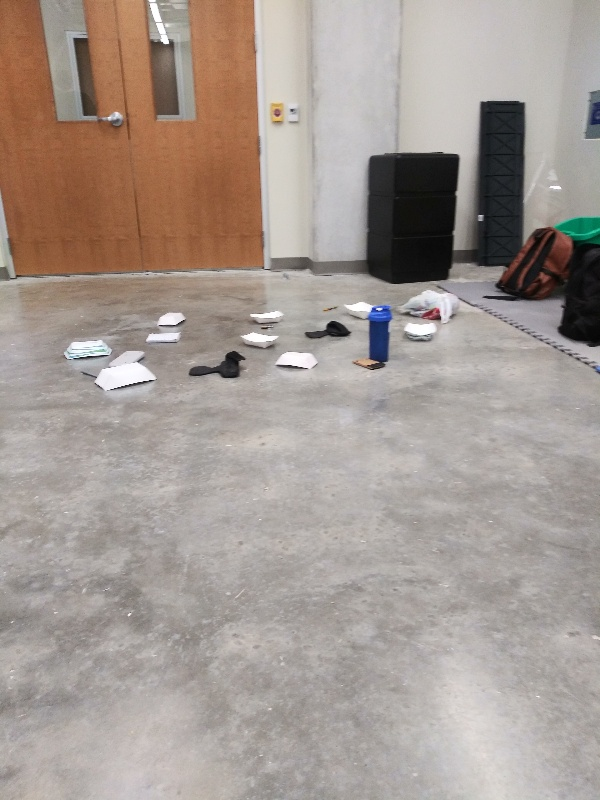plate: (91, 360, 157, 397), (61, 335, 114, 363), (400, 318, 442, 346), (275, 348, 322, 371), (248, 306, 292, 325), (238, 328, 277, 349), (153, 307, 191, 328), (342, 298, 372, 321)
